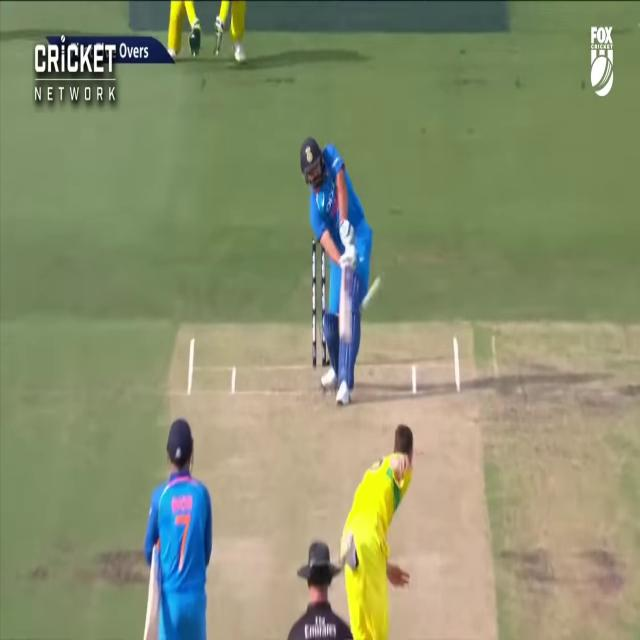stump: (312, 237, 329, 368)
